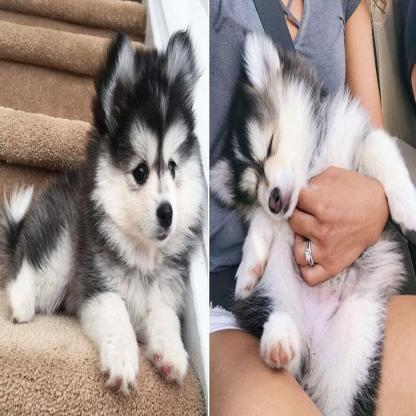dog: (211, 28, 416, 416), (10, 33, 205, 388)
